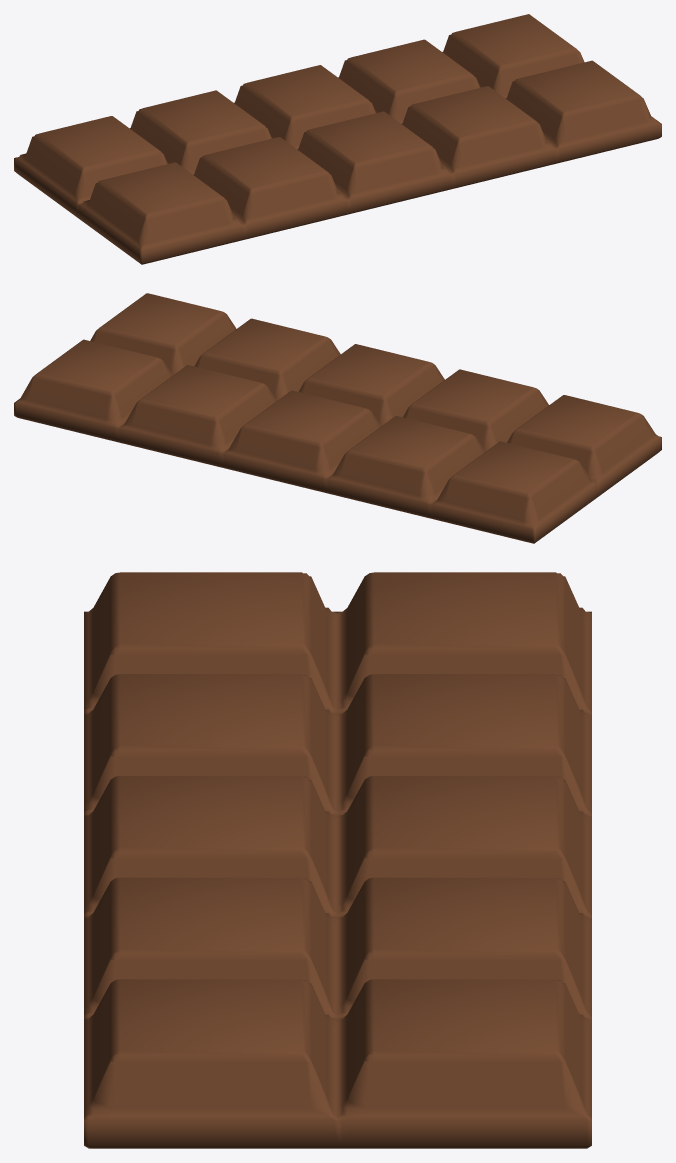
3 renders of one model, top to bottom at view 1: azimuth 30°, elevation 25°; view 2: azimuth 150°, elevation 25°; view 3: azimuth 270°, elevation 25°, orthographic. The views are drawn at different scales.
Visible parts, largest first — view 1: NEW323_Chocolate_bar_LOD0; view 2: NEW323_Chocolate_bar_LOD0; view 3: NEW323_Chocolate_bar_LOD0.
Part boxes in pixels (x1=…): NEW323_Chocolate_bar_LOD0: x1=14, y1=14, x2=661, y2=264; NEW323_Chocolate_bar_LOD0: x1=14, y1=293, x2=661, y2=543; NEW323_Chocolate_bar_LOD0: x1=84, y1=572, x2=591, y2=1148.
Size of the model in its own units: 0.18 by 0.014 by 0.076.
